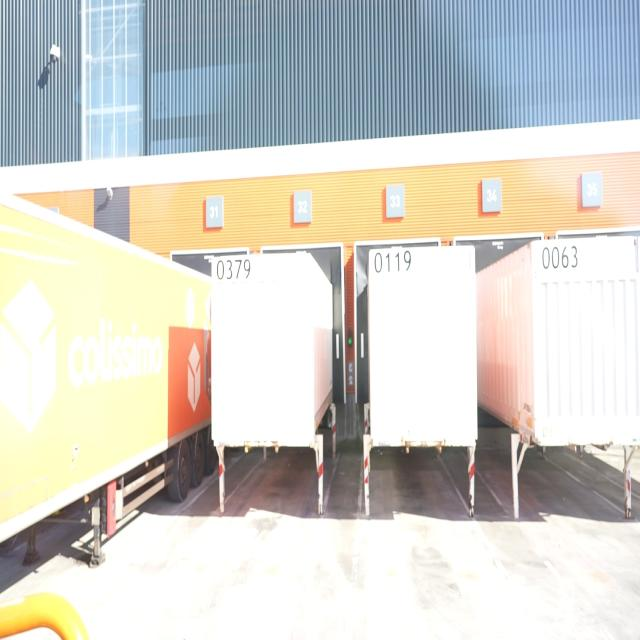Code: (538, 243, 582, 273), (373, 247, 414, 275), (215, 256, 253, 282)
